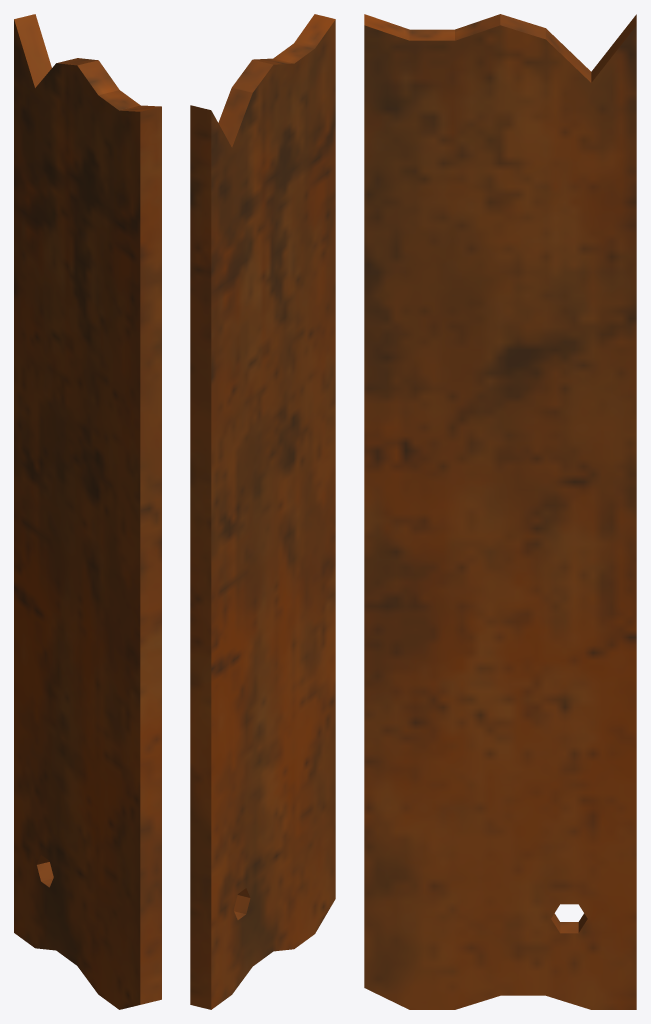
Rendered from WoodenPlank_SM.fbx.
3 views of the same model, side by side, from view 1: azimuth 30°, elevation 25°; view 2: azimuth 150°, elevation 25°; view 3: azimuth 270°, elevation 25° (orthographic). The views are drawn at different scales.
Visible parts, largest first — view 1: Box004; view 2: Box004; view 3: Box004.
Part boxes in pixels (<box>): Box004: <box>14,14,161,1009</box>; Box004: <box>190,14,335,1009</box>; Box004: <box>364,14,636,1009</box>.
Bounding box in the file's own units: 5.16 × 210 × 52.68.
